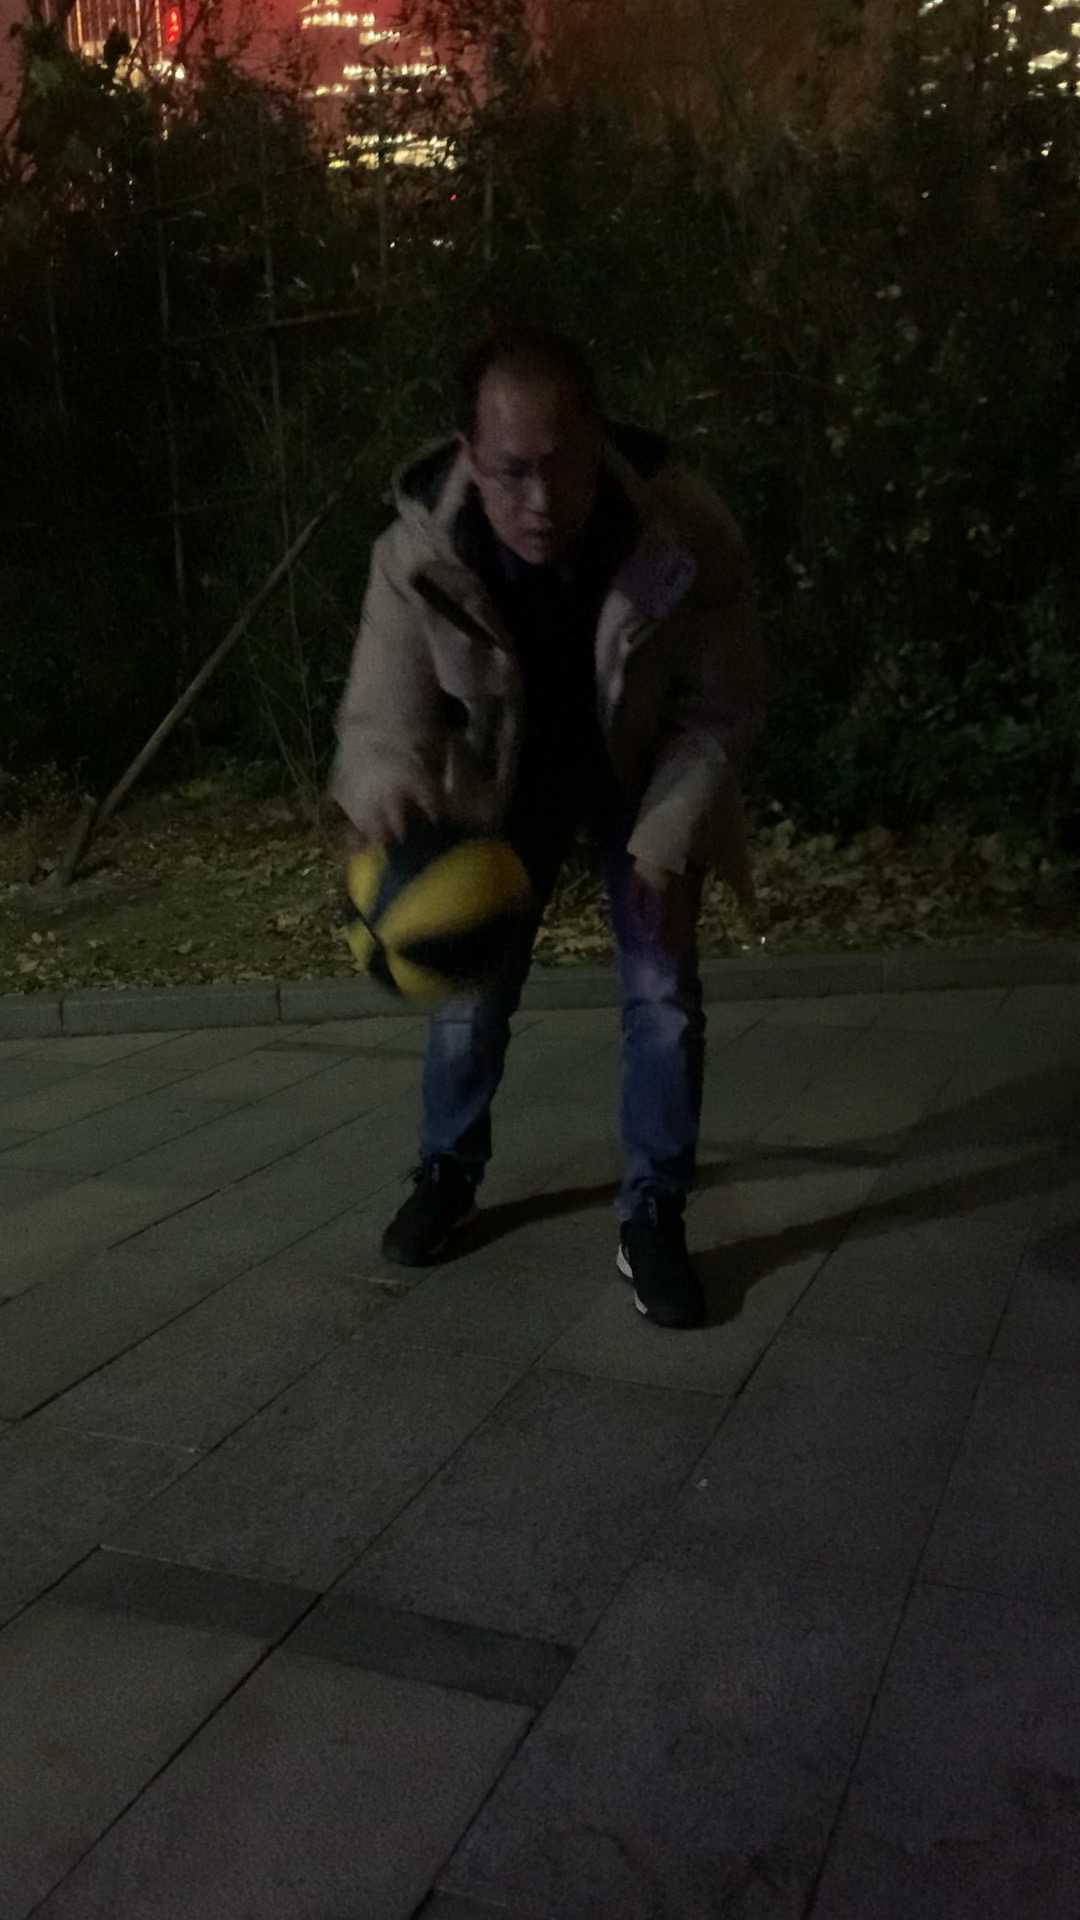ball: (342, 827, 538, 1002)
